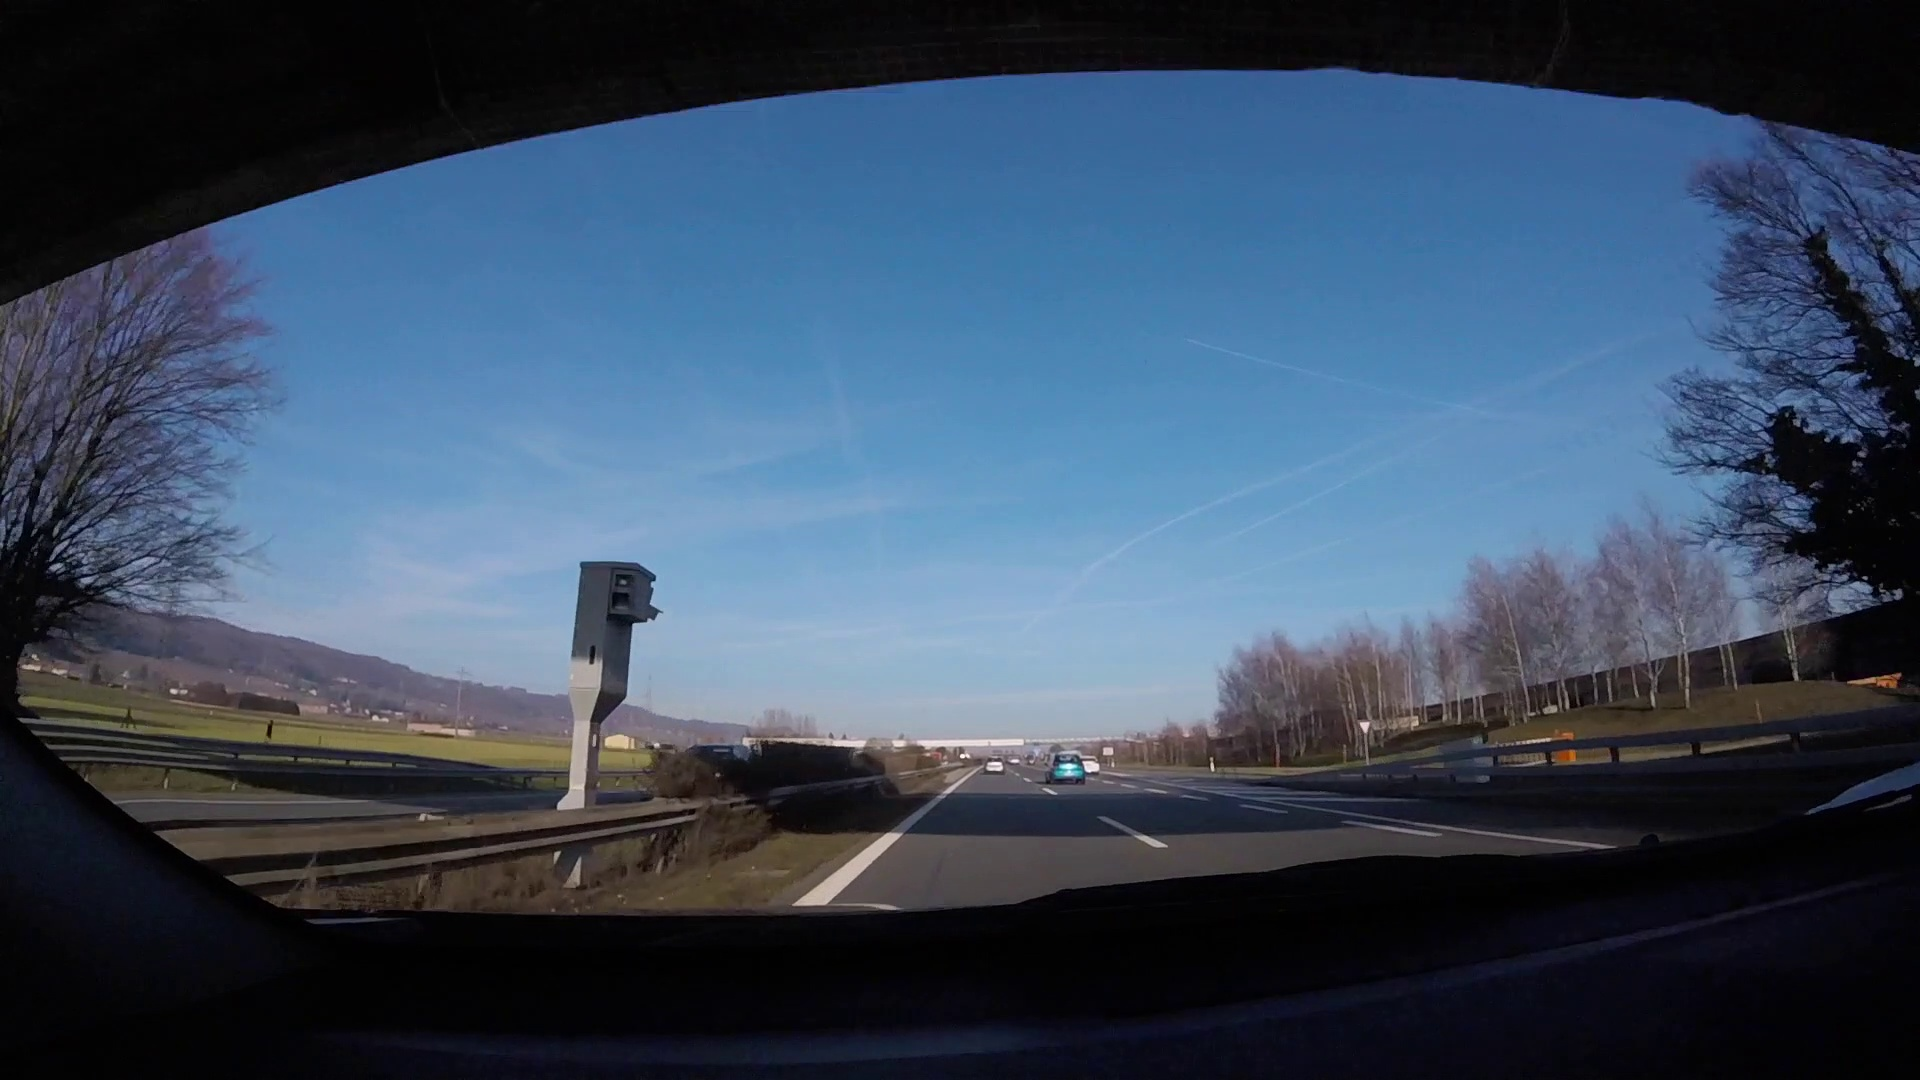radar: (566, 559, 667, 793)
